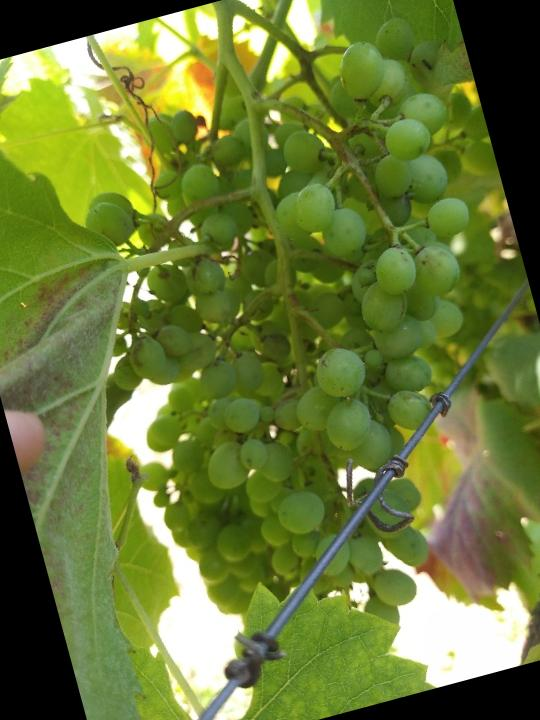grape: (41, 6, 540, 683)
